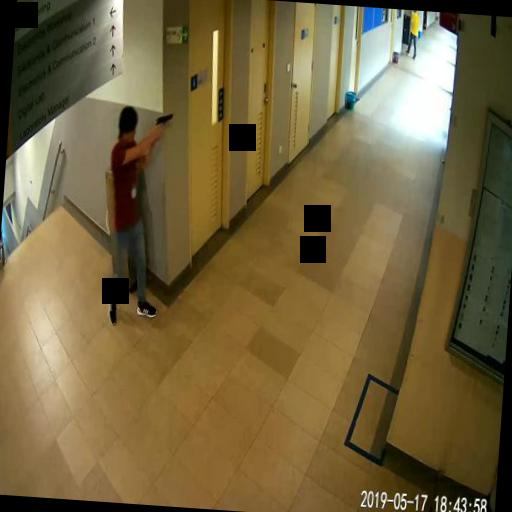Handgun: (153, 110, 172, 134)
